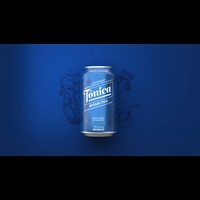tonica: (78, 64, 121, 140)
